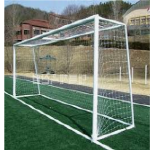goals: (12, 14, 138, 144)
